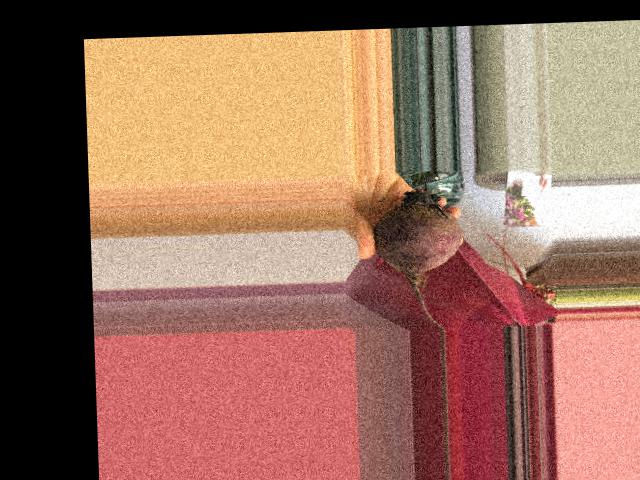beet: (372, 170, 465, 331)
